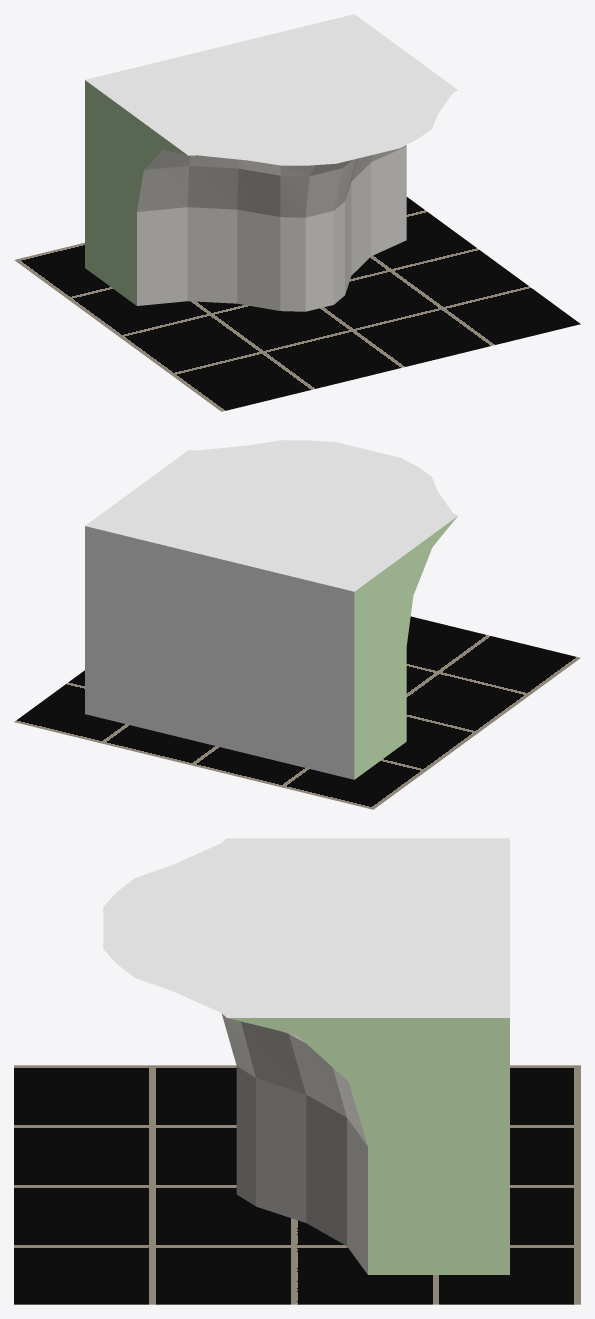
The model's file is Wall_Straight_Deformed_Convex_3x3_Top.glb.
3 renders of one model, top to bottom at view 1: azimuth 30°, elevation 25°; view 2: azimuth 150°, elevation 25°; view 3: azimuth 270°, elevation 25°, orthographic. The views are drawn at different scales.
Visible parts, largest first — view 1: Wall_Straight_Deformed_Convex_3x3_Top, Floor; view 2: Wall_Straight_Deformed_Convex_3x3_Top, Floor; view 3: Wall_Straight_Deformed_Convex_3x3_Top, Floor.
Boxes of the visible parts, x1,y1,x2,y2 form: Wall_Straight_Deformed_Convex_3x3_Top: [85, 14, 457, 311]; Floor: [14, 197, 580, 411]; Wall_Straight_Deformed_Convex_3x3_Top: [85, 440, 457, 779]; Floor: [14, 616, 580, 809]; Wall_Straight_Deformed_Convex_3x3_Top: [103, 838, 509, 1274]; Floor: [14, 1065, 580, 1304].
Bounding box in the file's own units: 400 × 200 × 400.
5 materials, 1 textured.
